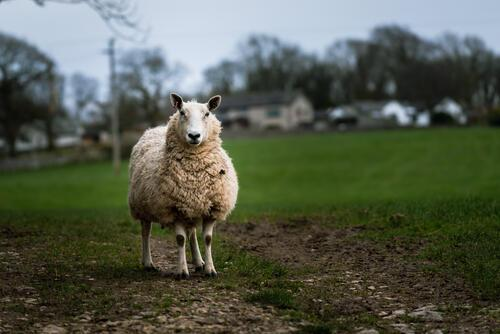sheep: (129, 92, 239, 280)
